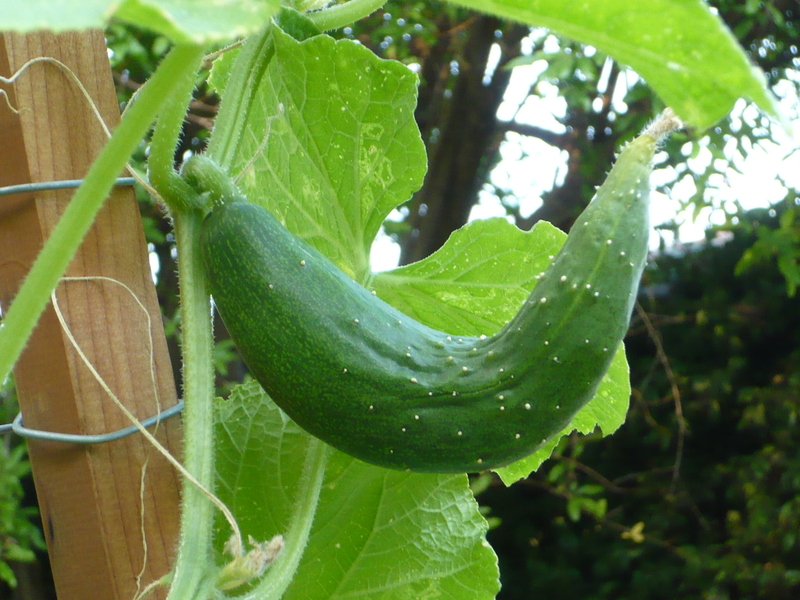cucumber: (198, 115, 682, 474)
